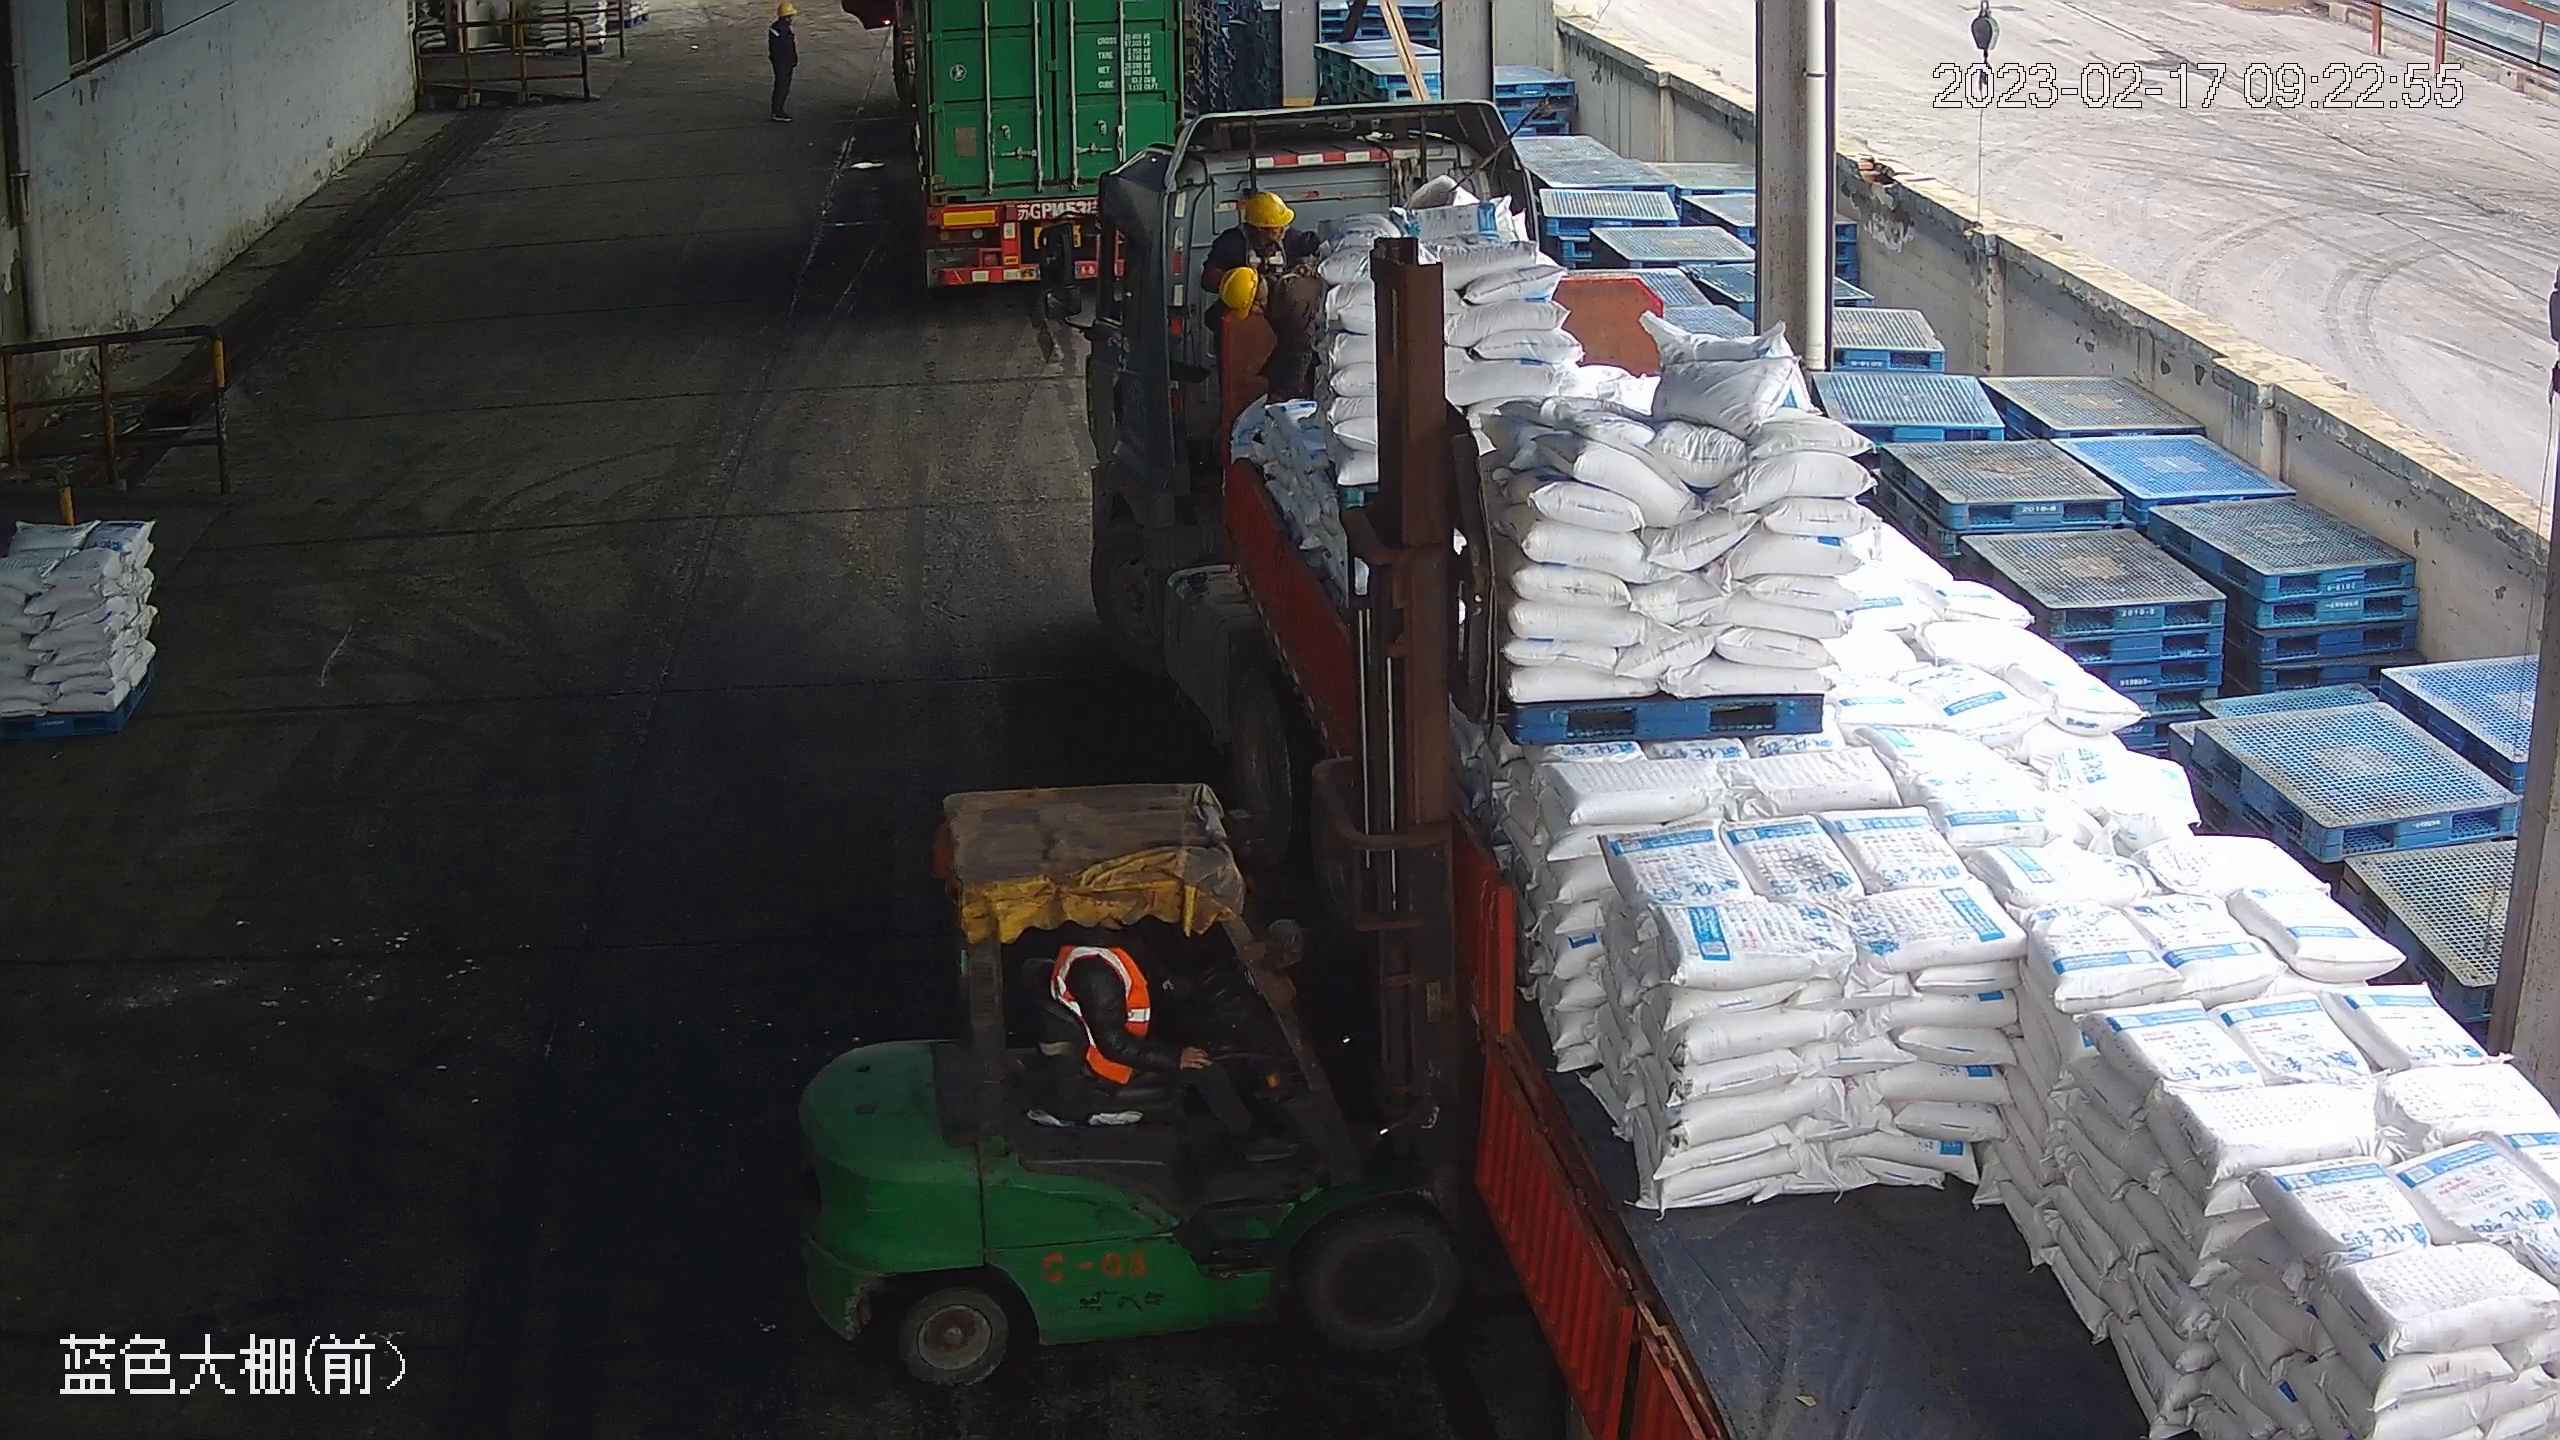belt: (1233, 225, 1299, 266)
head: (1219, 266, 1320, 359), (1208, 190, 1309, 265), (767, 3, 801, 46)
helmet: (1219, 264, 1262, 324), (1245, 190, 1295, 230), (777, 2, 797, 17)
people: (1051, 939, 1296, 1178), (766, 3, 804, 125)
truck: (1023, 96, 2560, 1440), (895, 1, 1205, 315)
